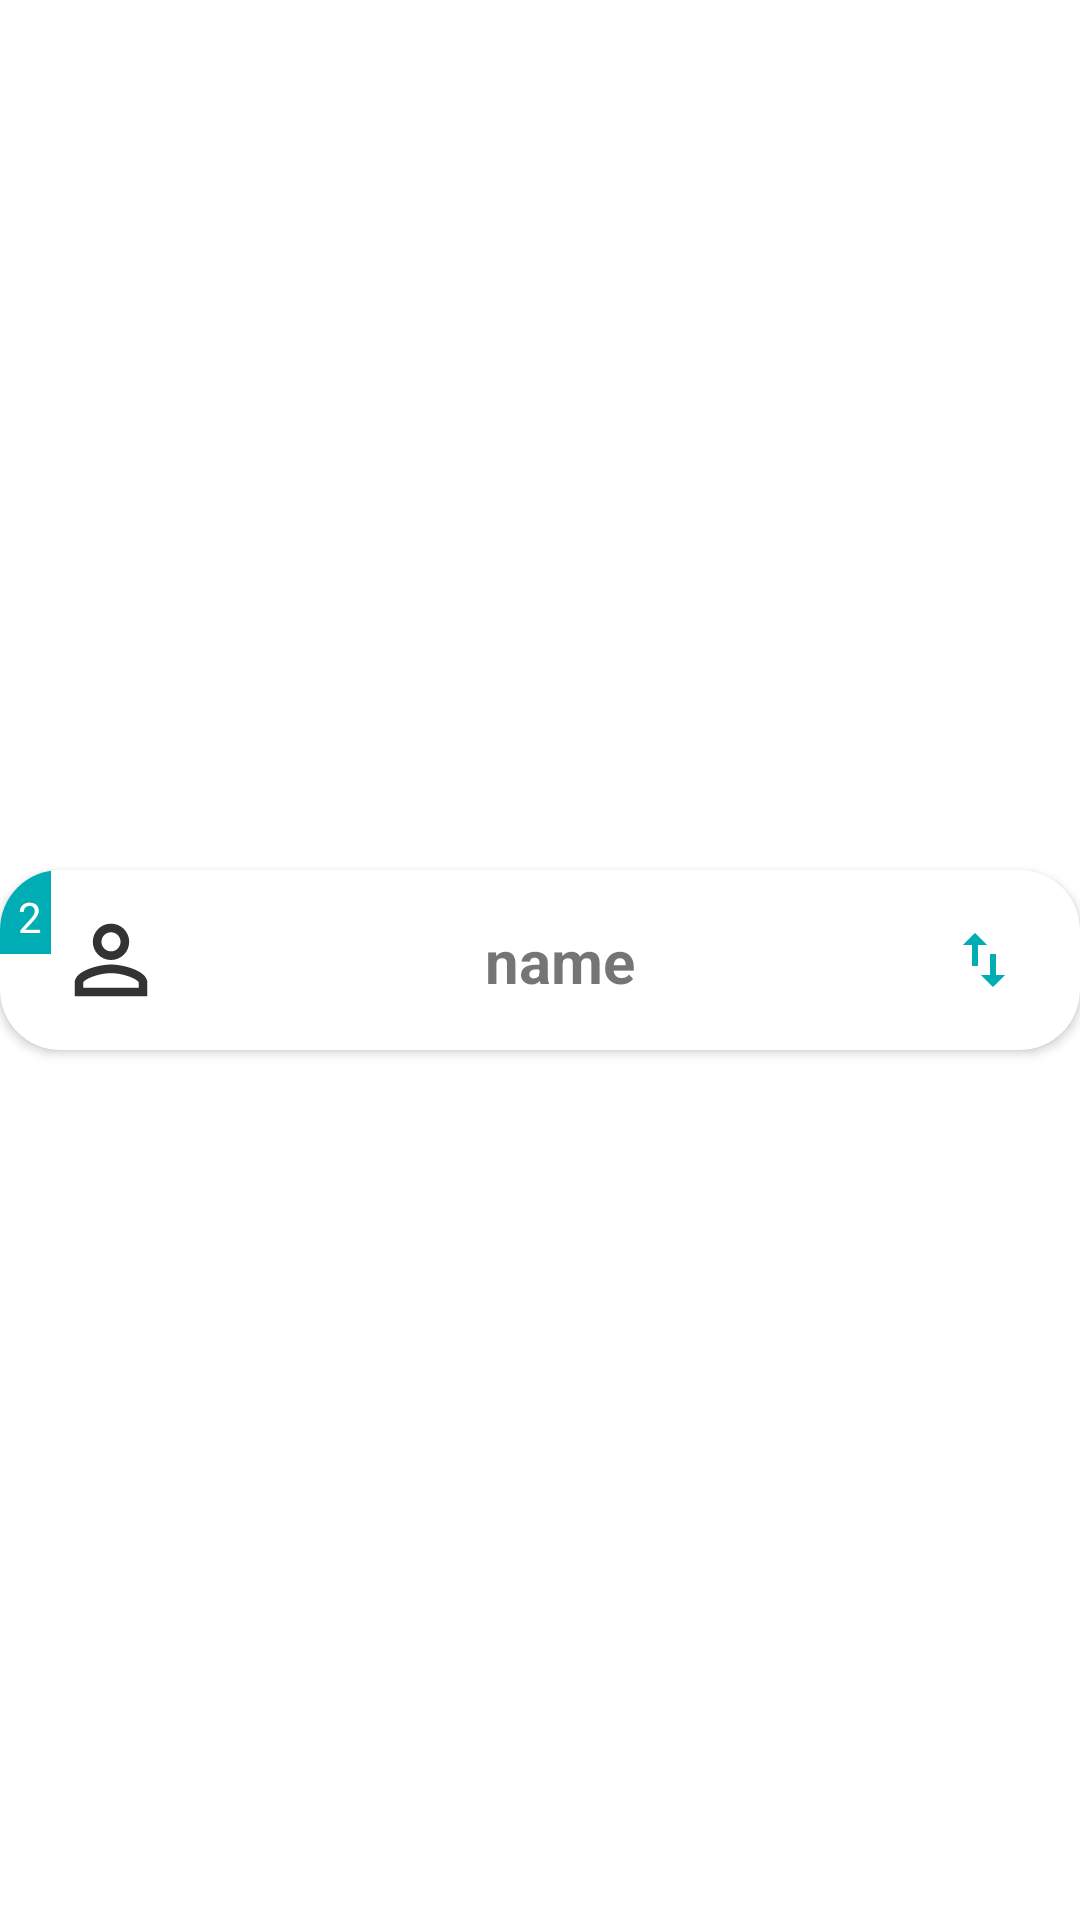

Screen size 1080 x 1920. Icon name, then its center in pixels as point (x, y):
swap: point (984, 960)
user: point (111, 960)
